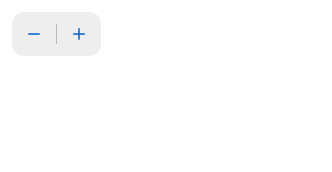
Test: Pulsanti e campi › Stepper rispetta min e max
Later steps or results of the test are not shown.
expect the element named "giocatori" is shown: met, box [12,12,101,56]
Click the button named "Aumenta giocatori" at x=79, y=34, box [57,12,101,56]
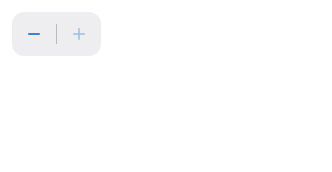
expect the button named "Aumenta giocatori" is disabled: met, box [57,12,101,56]
